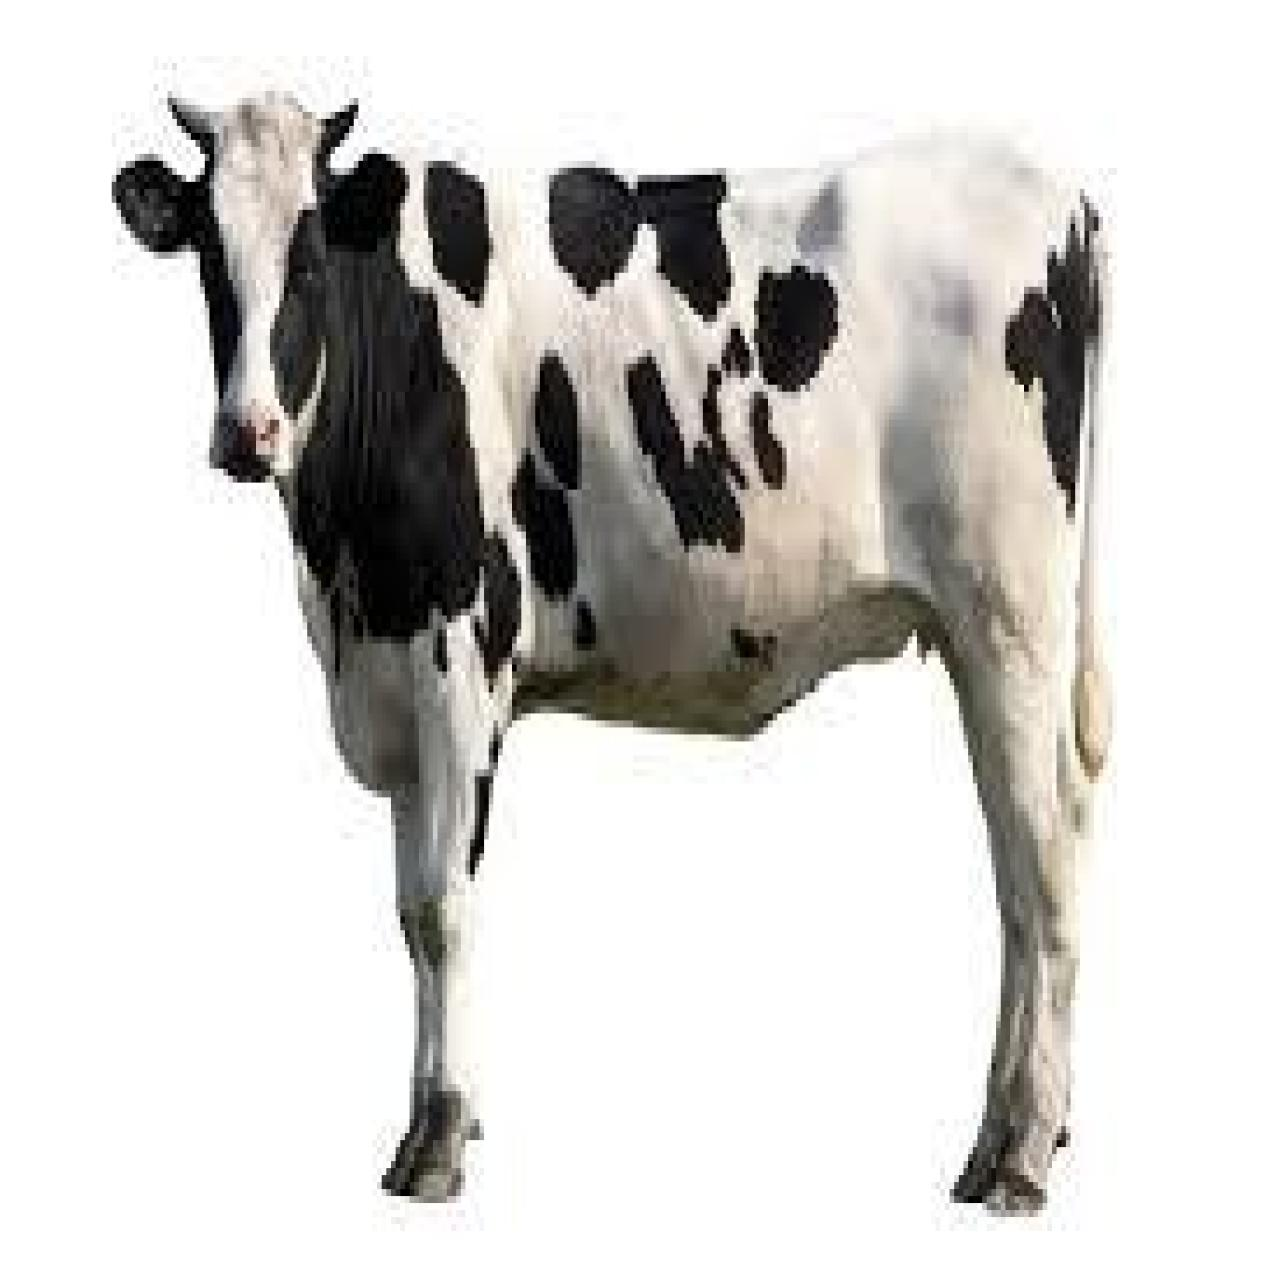cow: (109, 91, 1115, 1210)
